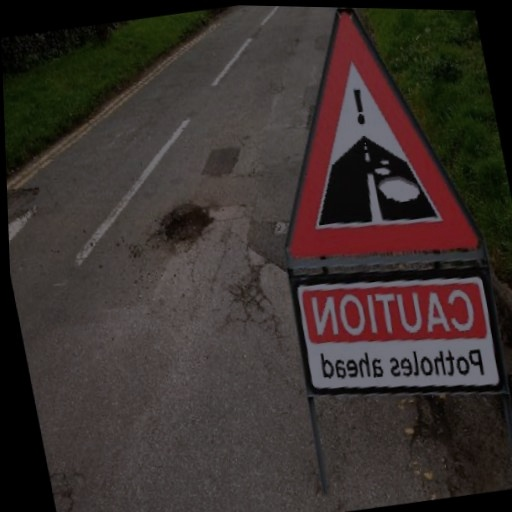pothole: (147, 195, 220, 255)
